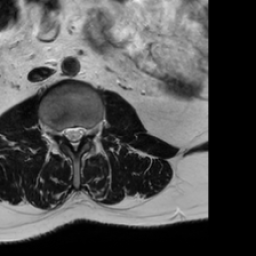CCS_normal: (71, 118, 78, 155)
LFS_stenosis: (86, 122, 94, 140)
LLS_normal: (78, 121, 86, 142)
RFS_stenosis: (55, 121, 63, 141)
RLS_normal: (63, 122, 71, 142)
